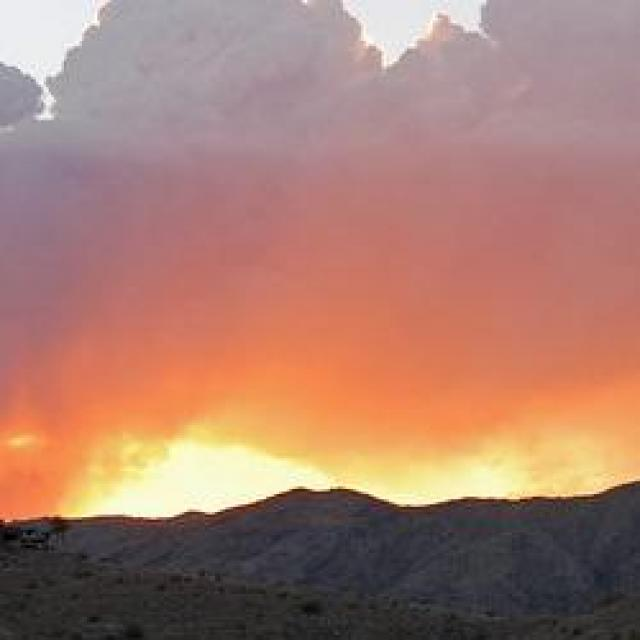fire: (137, 493, 180, 517), (207, 486, 246, 510), (456, 476, 486, 498)
smoke: (2, 366, 56, 518), (146, 438, 324, 482), (536, 380, 640, 446), (498, 432, 592, 498), (206, 390, 297, 454), (94, 434, 152, 476)
